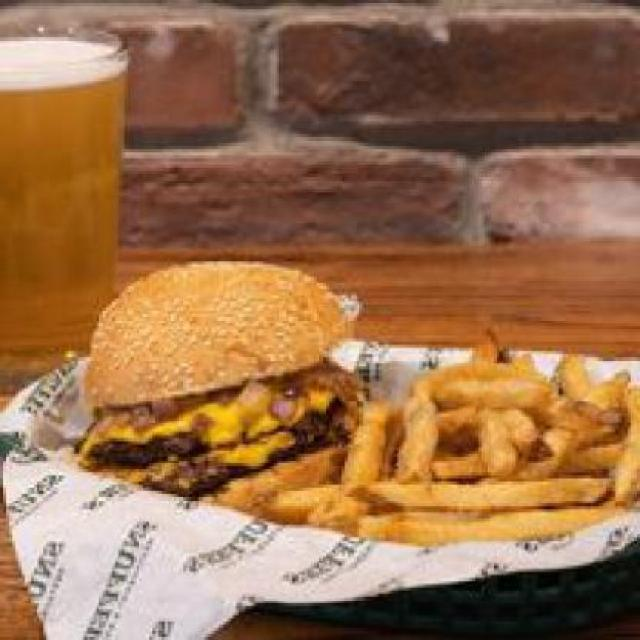hamburger: (68, 242, 367, 513)
